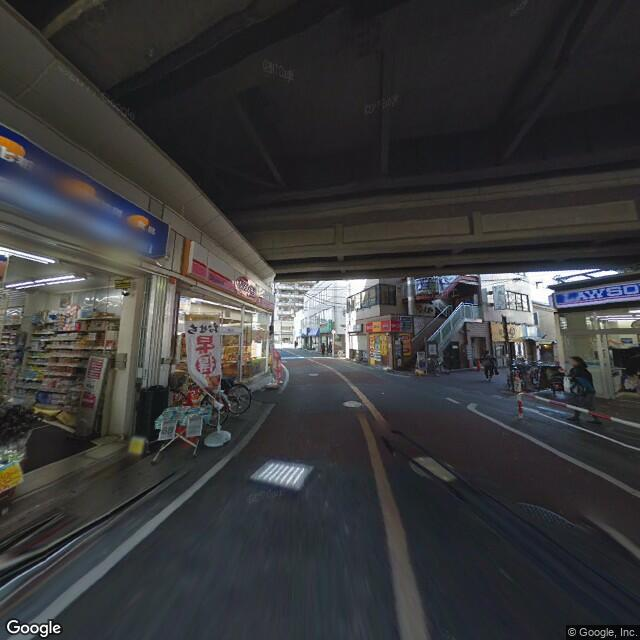lawson: (552, 277, 638, 312)
